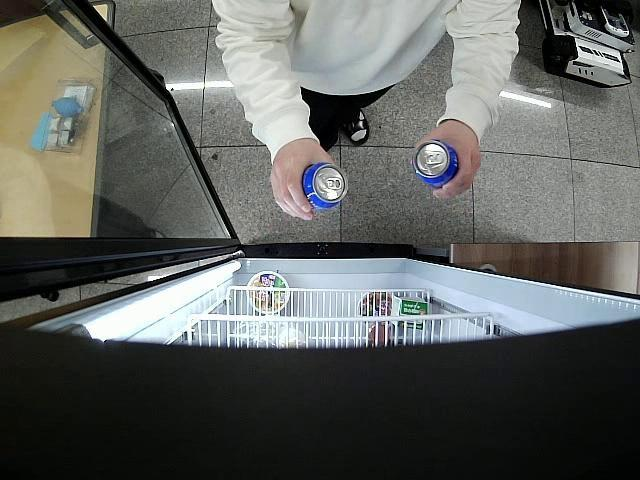13_pocariSweat: (410, 140, 459, 190), (301, 162, 348, 210)
